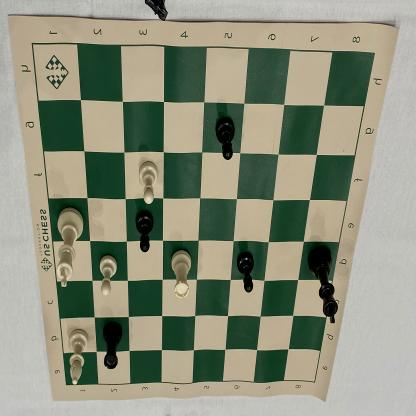black-king: (304, 243, 340, 328)
black-pawn: (213, 115, 238, 168), (133, 209, 156, 255), (236, 248, 256, 296)
black-rook: (100, 320, 124, 372)
white-bishop: (66, 326, 89, 388)
white-king: (52, 204, 86, 289)
white-pawn: (136, 160, 162, 206), (96, 253, 120, 300)
white-rook: (169, 246, 194, 302)
